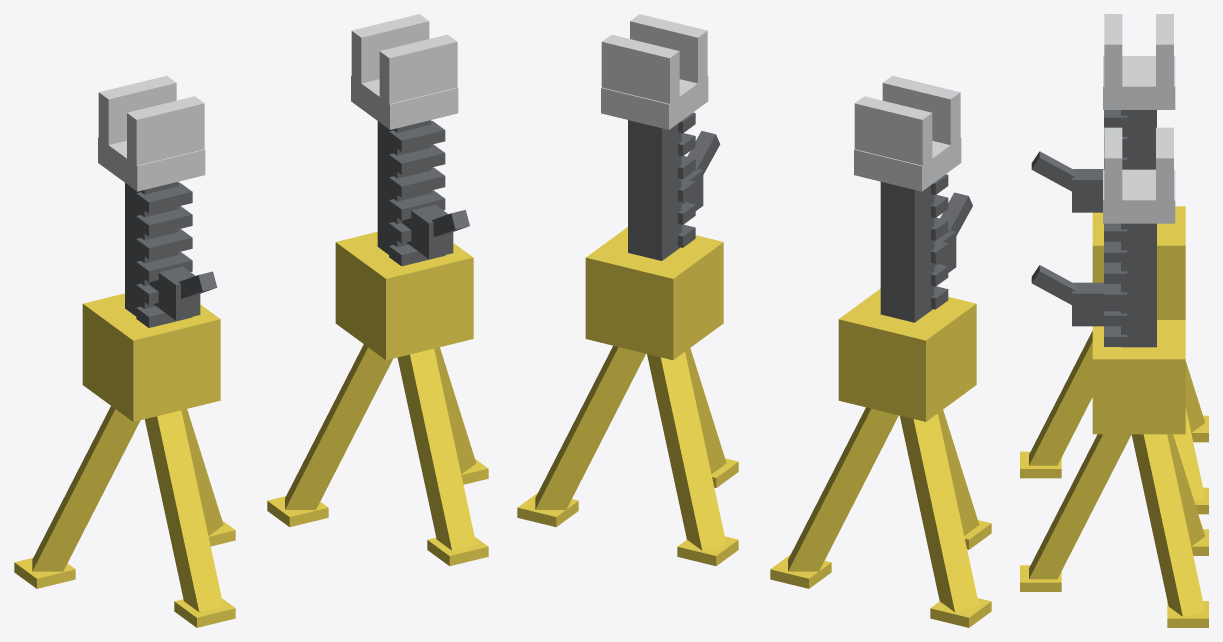
Rendered from car-repair-garage-and-mot-workshop-car-repair-garage-a-9ca6860c__34011.glb.
The picture shows the model from 3 angles, left to right: view 1: azimuth 30°, elevation 25°; view 2: azimuth 150°, elevation 25°; view 3: azimuth 270°, elevation 25°; orthographic projection. The views are drawn at different scales.
Parts seen in each view (by area): view 1: car-repair-garage-and-mot-workshop-axle-stands-pair; view 2: car-repair-garage-and-mot-workshop-axle-stands-pair; view 3: car-repair-garage-and-mot-workshop-axle-stands-pair.
Boxes of the visible parts, bbox=[...] form: car-repair-garage-and-mot-workshop-axle-stands-pair: bbox=[14, 14, 488, 627]; car-repair-garage-and-mot-workshop-axle-stands-pair: bbox=[517, 14, 991, 627]; car-repair-garage-and-mot-workshop-axle-stands-pair: bbox=[1020, 14, 1208, 627].
Size of the model in its own units: 0.9291 by 0.9405 by 0.365.
